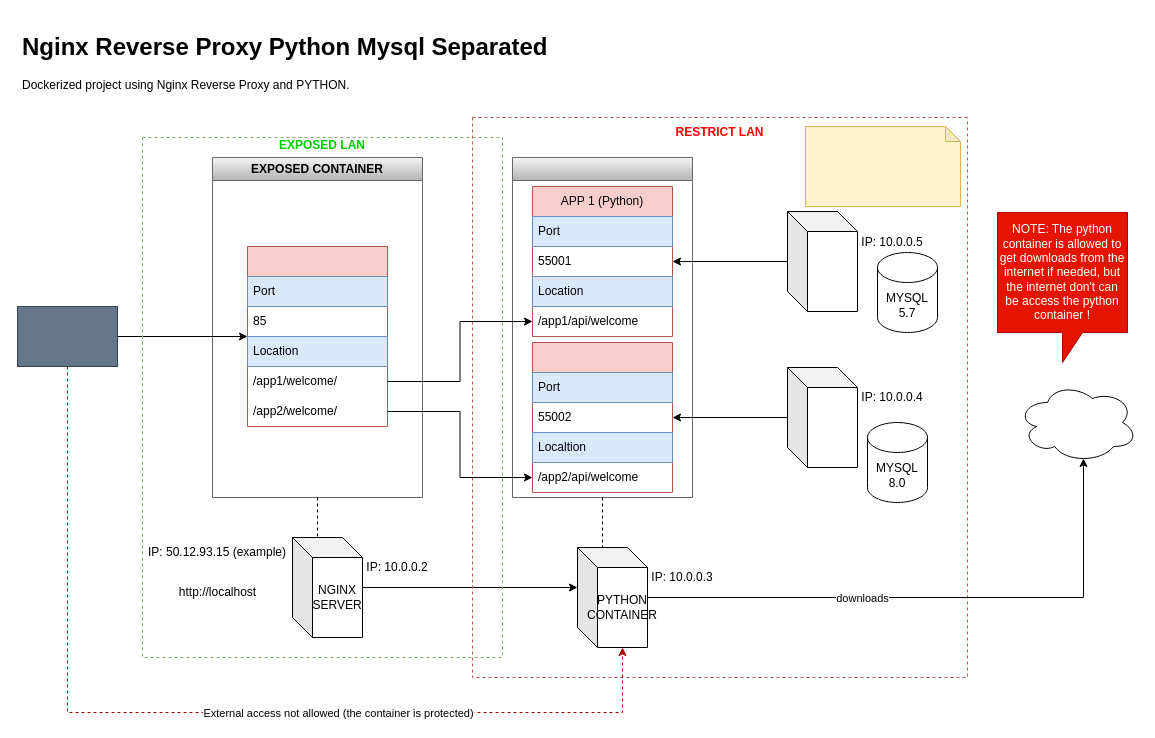
The diagram is 1155 pixels wide and 738 high, and some of its shapes have lost their labels. Here are the shapes that lost their labels. From the top down, the box of each, then its label:
(804, 126, 960, 206): See more details in the reverse-proxy.conf on NGINX SERVER
(786, 210, 858, 312): MYSQL 5.7 CONTAINER
(16, 306, 118, 366): CLIENT
(246, 246, 388, 426): nginx-reverse-proxy
(512, 156, 692, 498): PROTECTED CONTAINER
(532, 342, 672, 492): APP 2 (Python)
(786, 366, 858, 468): MYSQL 8.0 CONTAINER
(1016, 382, 1138, 462): INTERNET
